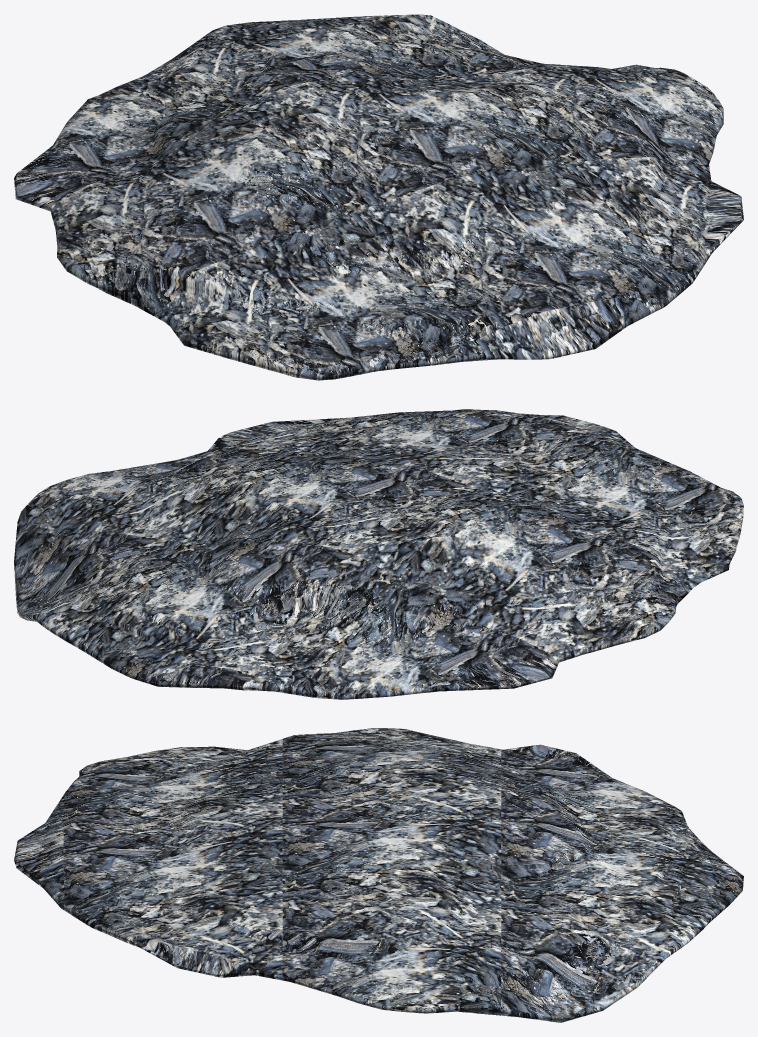
File: ash.fbx
3 renders of one model, top to bottom at view 1: azimuth 30°, elevation 25°; view 2: azimuth 150°, elevation 25°; view 3: azimuth 270°, elevation 25°, orthographic. The views are drawn at different scales.
Visible parts, largest first — view 1: pPlatonic35; view 2: pPlatonic35; view 3: pPlatonic35.
Boxes of the visible parts, x1,y1,x2,y2 form: pPlatonic35: (14, 14, 743, 380); pPlatonic35: (14, 409, 743, 699); pPlatonic35: (14, 728, 743, 1022).
Size of the model in its own units: 11.31 by 1.76 by 12.3.
Materials: 1 (1 with a texture image).
